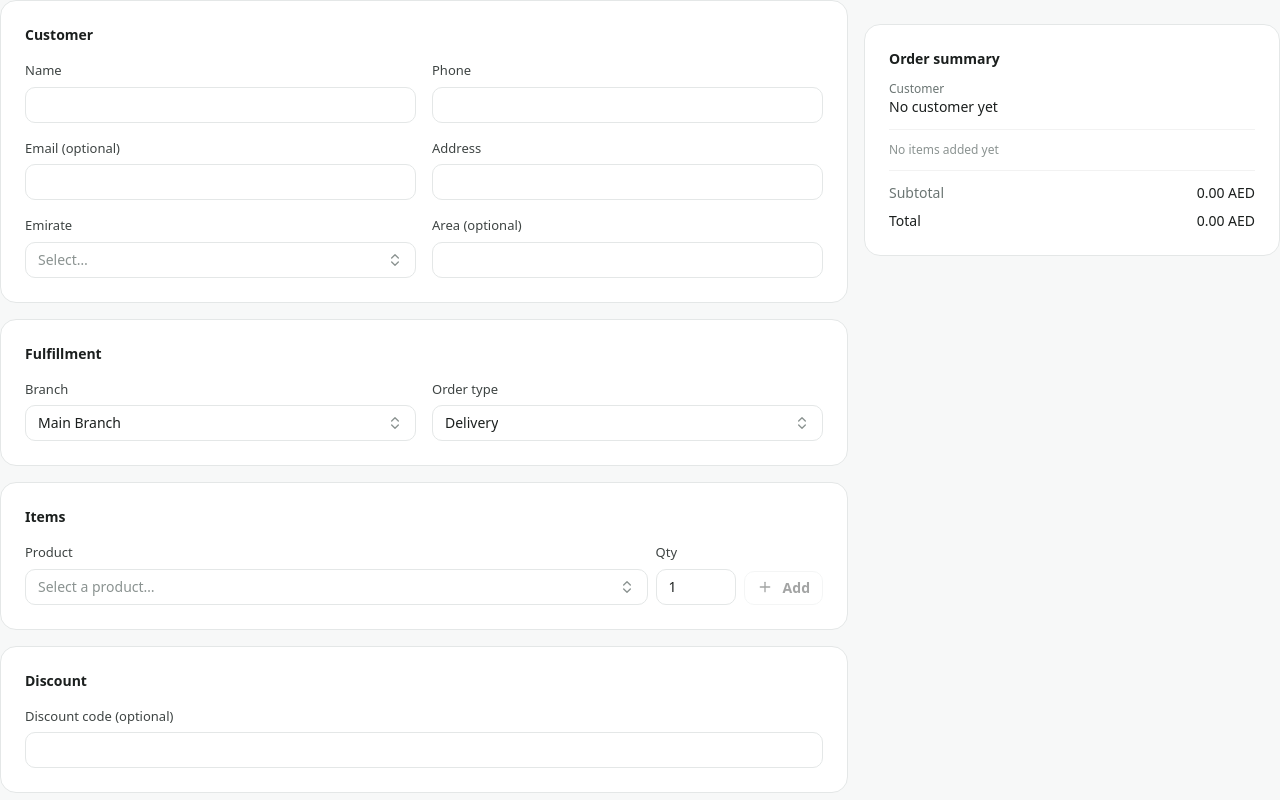
Scenario: DraftOrderBuilder › Branch combobox is populated from listOutlets and defaults to the first outlet
Click the dropdown labelled "Main Branch".
click(79, 422)  # box [25,405,416,441]
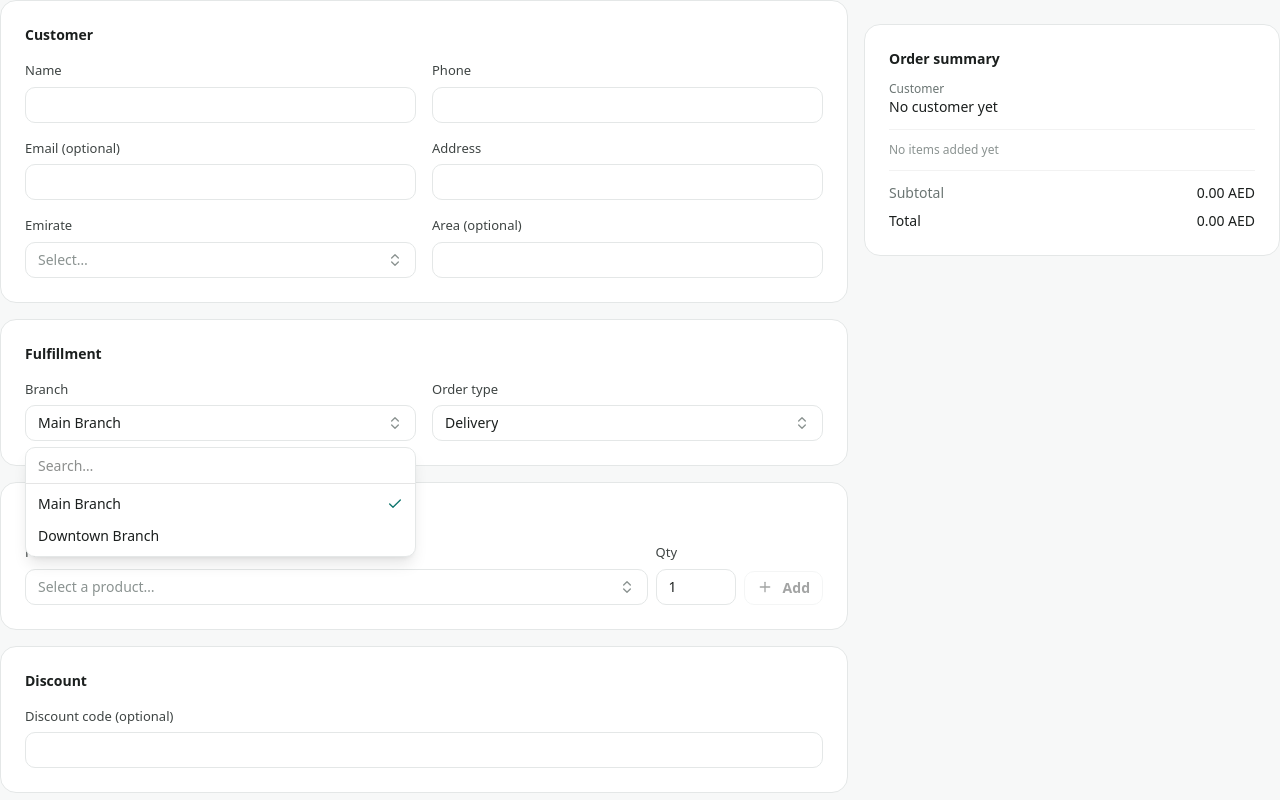
Click the option "Downtown Branch".
click(99, 536)  # box [26,520,415,552]
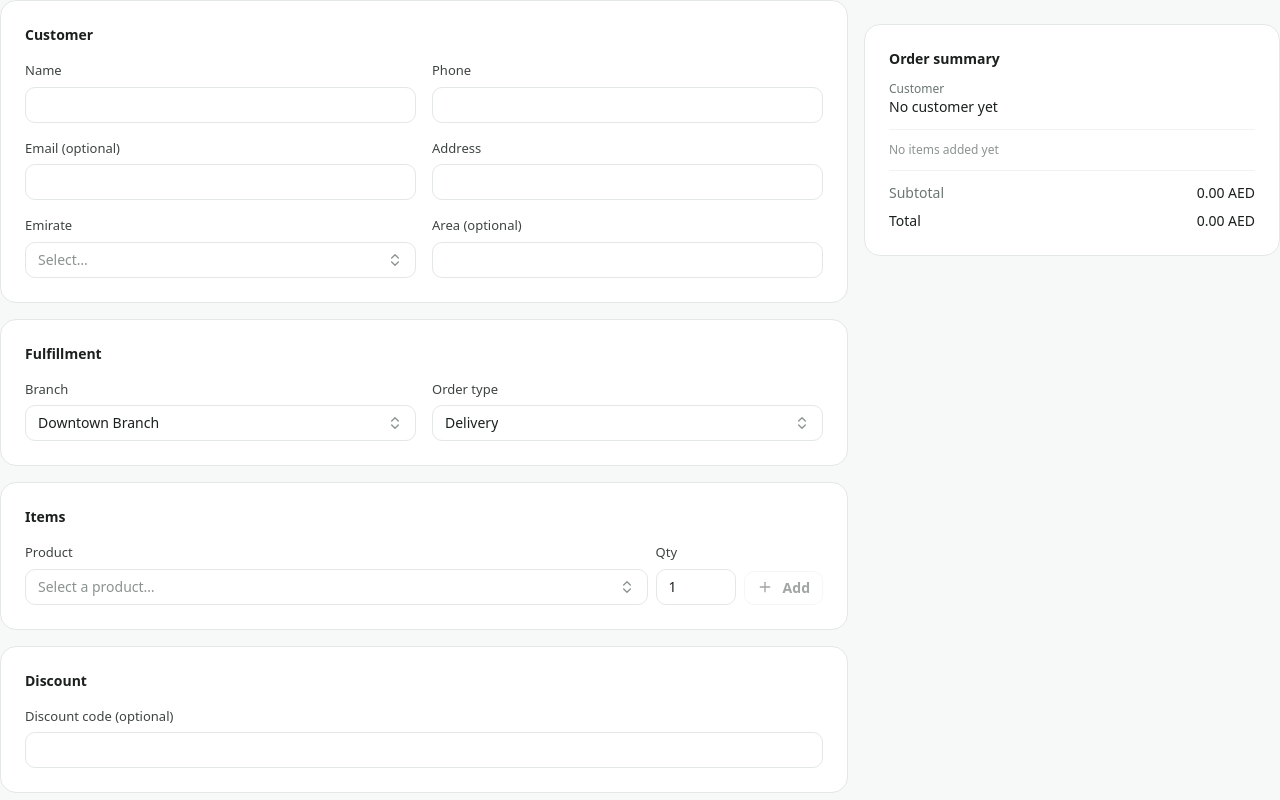
Expected: the dropdown labelled "Downtown Branch" is shown, [25,405,416,441]
